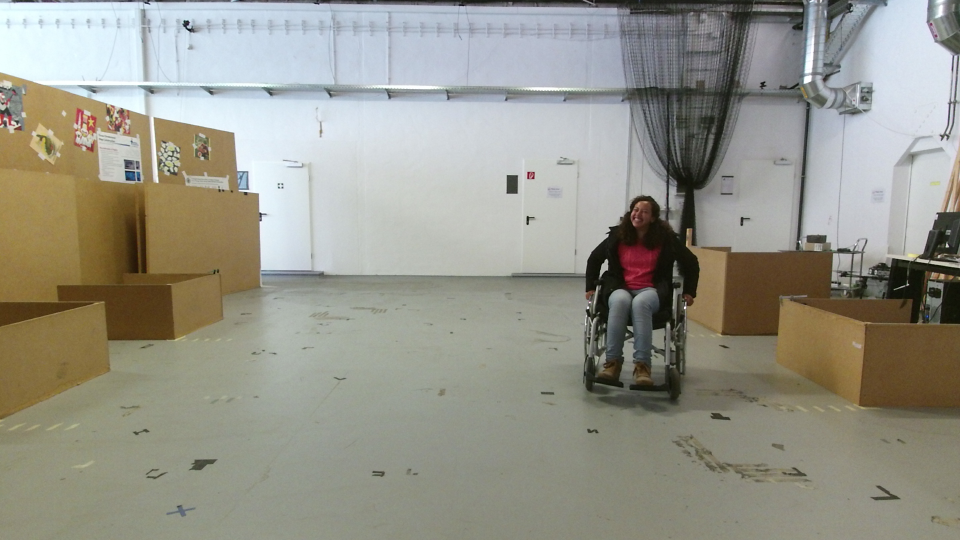wheelchair: (571, 190, 701, 404)
